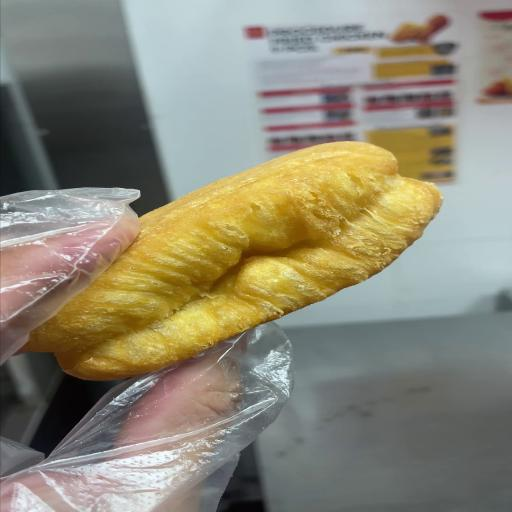brand_golden_good: (26, 142, 441, 379)
